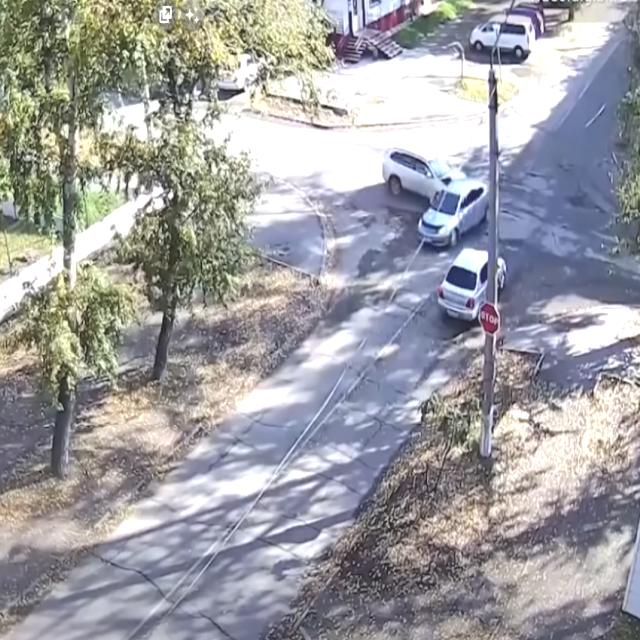accident: (383, 136, 493, 250)
non-accident: (468, 4, 546, 62)
